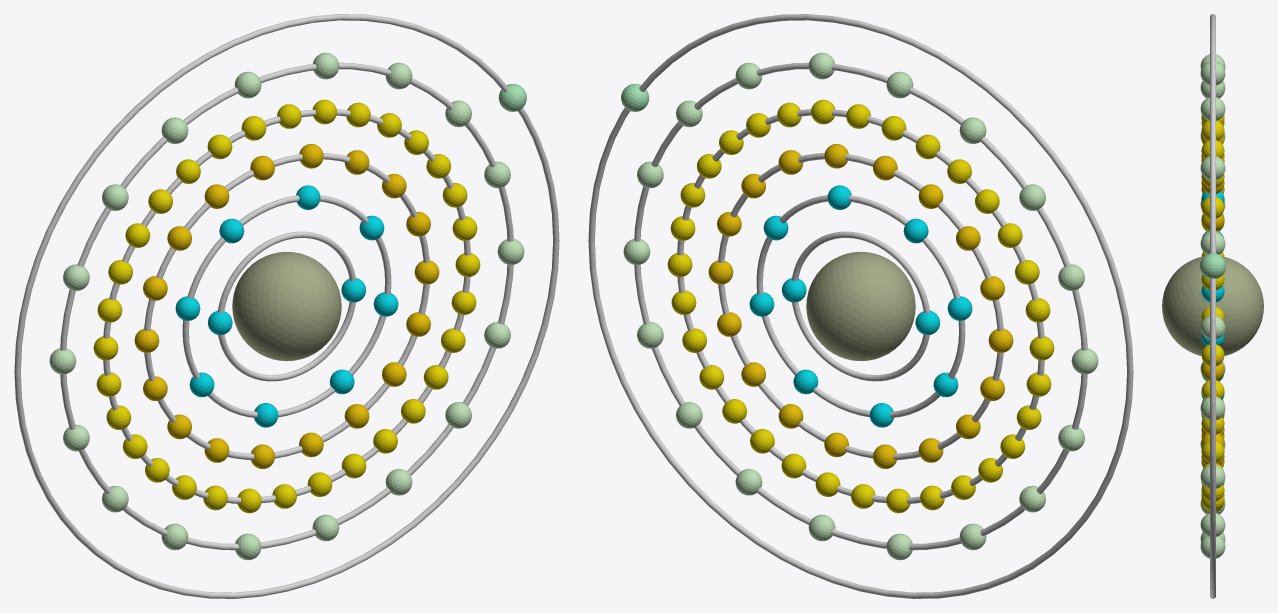
The picture shows the model from 3 angles, left to right: view 1: azimuth 30°, elevation 25°; view 2: azimuth 150°, elevation 25°; view 3: azimuth 270°, elevation 25°; orthographic projection. The views are drawn at different scales.
Parts seen in each view (by area): view 1: world; view 2: world; view 3: world.
Boxes of the visible parts, bbox=[...] form: world: bbox=[14, 14, 559, 598]; world: bbox=[588, 14, 1133, 598]; world: bbox=[1162, 14, 1263, 598].
Bounding box in the file's own units: 2.53 × 2.53 × 0.44.
